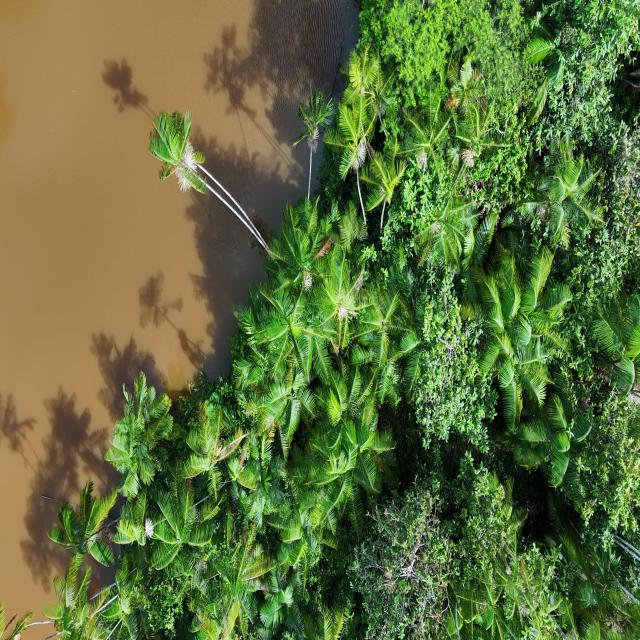vegetation: (2, 1, 638, 638)
